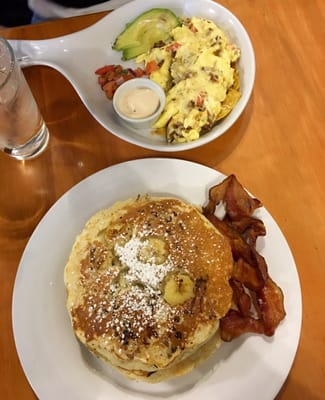soup: (64, 193, 237, 390)
sushi: (3, 0, 257, 153), (113, 78, 166, 130)
